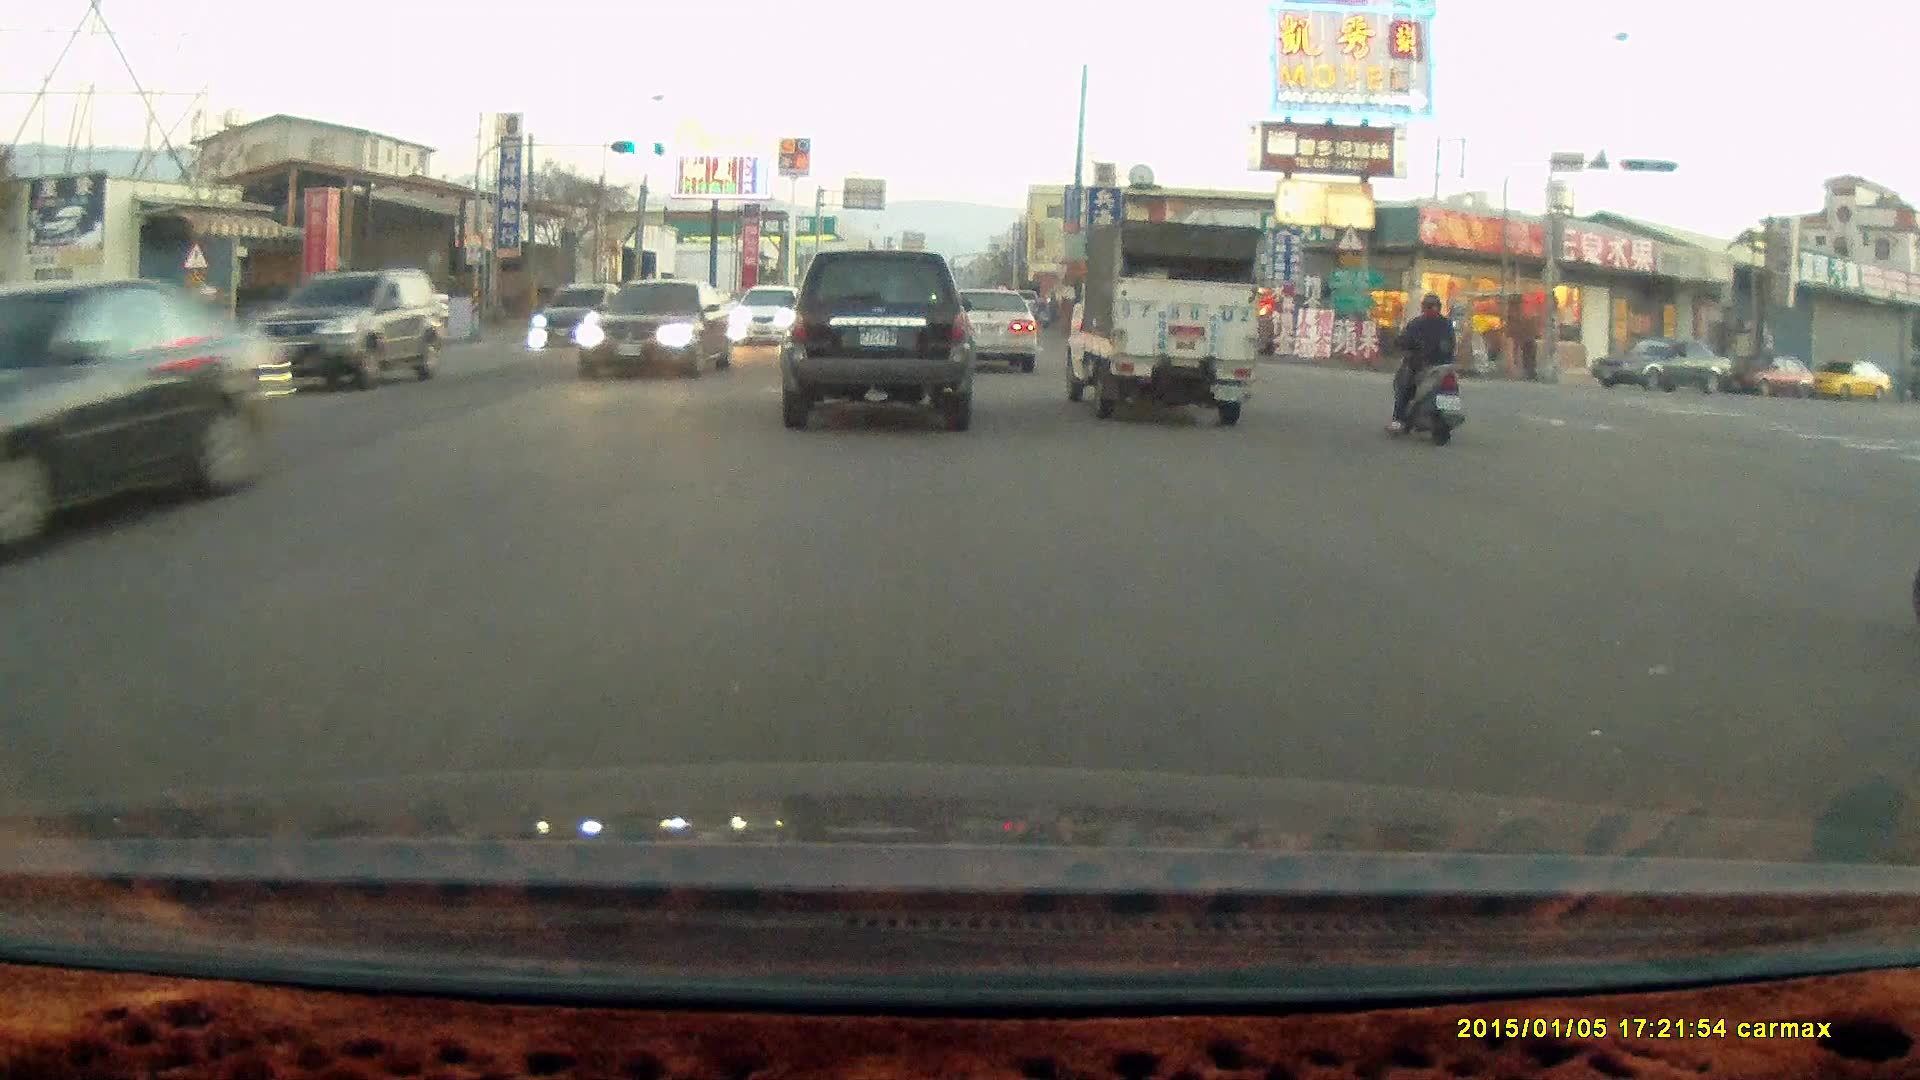rider: (1382, 291, 1461, 446)
vehicle: (4, 270, 280, 553), (1057, 214, 1265, 425), (779, 247, 976, 432), (251, 269, 447, 392), (578, 279, 740, 381), (927, 285, 1037, 376), (1587, 339, 1737, 397), (945, 287, 1042, 376), (534, 279, 628, 350), (338, 286, 452, 334), (727, 285, 801, 351), (1727, 355, 1818, 400), (1801, 361, 1894, 404)
